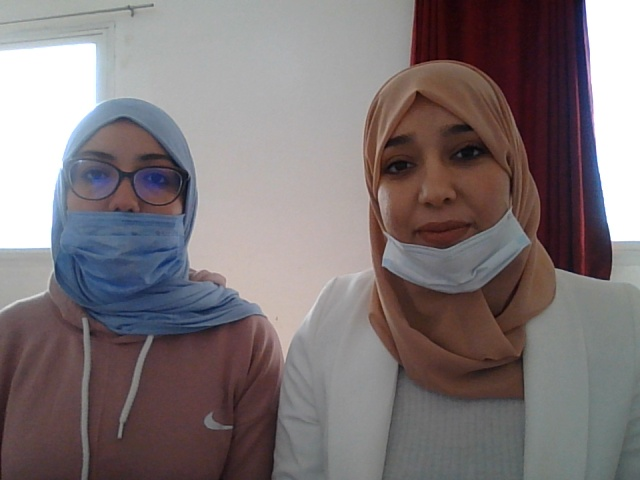mask_weared_incorrect: (354, 84, 537, 319), (27, 92, 218, 309)
